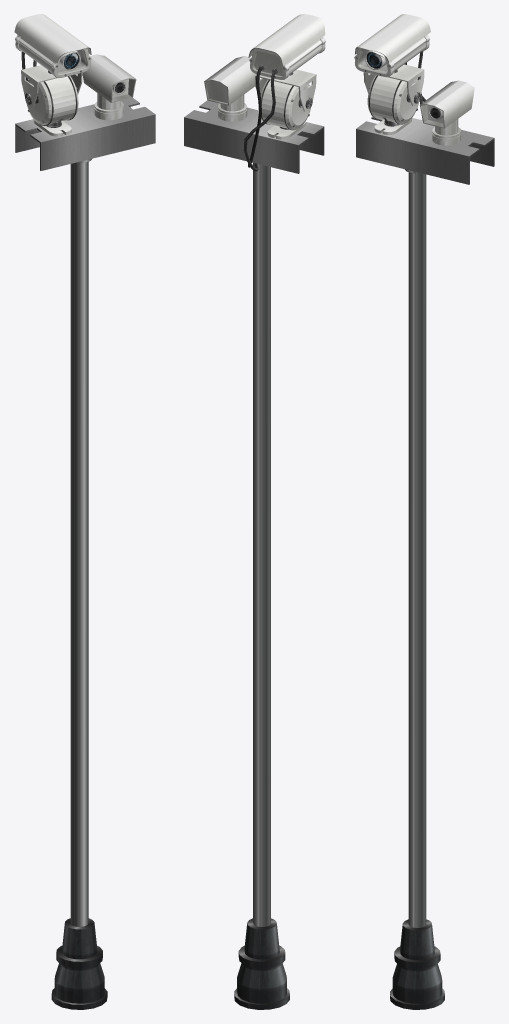
The picture shows the model from 3 angles, left to right: view 1: azimuth 30°, elevation 25°; view 2: azimuth 150°, elevation 25°; view 3: azimuth 330°, elevation 25°; orthographic projection.
Visible parts, largest first — view 1: MainBuilding; view 2: MainBuilding; view 3: MainBuilding.
Boxes of the visible parts, left/top/right/bottom form: MainBuilding: left=14, top=14, right=155, bottom=1009; MainBuilding: left=184, top=14, right=325, bottom=1009; MainBuilding: left=354, top=14, right=494, bottom=1009.
Bounding box in the file's own units: 0.1831 × 1.48 × 0.1369.
Materials: 1 (1 with a texture image).
